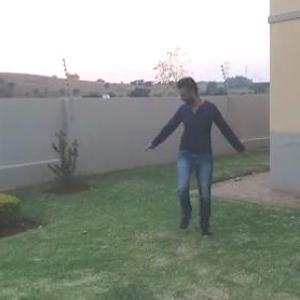land: (145, 79, 246, 236)
